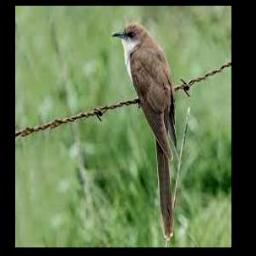Cuckoo: (112, 22, 178, 240)
